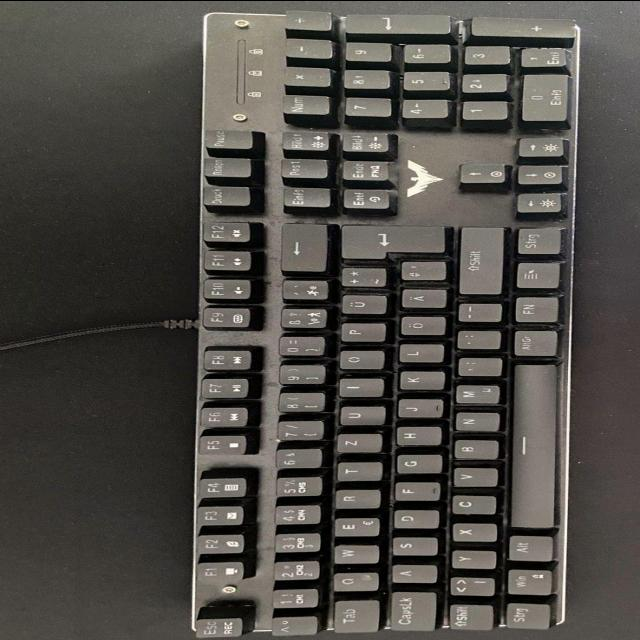0: (273, 336, 323, 358)
1: (266, 589, 316, 610)
2: (268, 561, 318, 582)
3: (268, 533, 318, 554)
4: (269, 504, 319, 525)
5: (271, 476, 321, 498)
6: (271, 448, 321, 469)
7: (272, 420, 322, 442)
8: (274, 393, 324, 414)
9: (274, 365, 324, 387)
a: (386, 565, 436, 585)
accent: (275, 280, 327, 302)
ae: (395, 289, 445, 310)
alt-left: (503, 535, 551, 563)
altgr-right: (509, 330, 556, 358)
b: (449, 440, 497, 461)
c: (447, 495, 495, 515)
caret: (265, 616, 315, 637)
comma: (453, 358, 501, 378)
d: (388, 510, 438, 530)
del: (274, 224, 325, 274)
e: (329, 518, 377, 538)
enter: (335, 226, 445, 260)
f: (389, 482, 437, 502)
g: (391, 455, 441, 475)
h: (392, 427, 440, 447)
hash: (396, 262, 444, 282)
i: (334, 379, 382, 399)
j: (392, 399, 442, 419)
k: (394, 371, 444, 391)
keyboard: (187, 7, 584, 639)
l: (393, 344, 443, 364)
less: (445, 577, 493, 597)
m: (450, 385, 498, 406)
minus: (454, 304, 500, 324)
n: (450, 412, 498, 432)
o: (334, 350, 384, 371)
oe: (396, 317, 444, 337)
p: (335, 323, 385, 343)
plus: (336, 268, 384, 288)
point: (452, 330, 499, 350)
q: (328, 572, 376, 593)
r: (330, 490, 380, 510)
s: (386, 537, 436, 557)
shift-left: (444, 604, 492, 632)
shift-lock: (385, 591, 435, 633)
shift-right: (454, 228, 502, 296)
space: (506, 364, 556, 531)
ss: (275, 308, 326, 330)
strg-left: (500, 603, 548, 631)
strg-right: (513, 228, 560, 256)
t: (332, 462, 380, 482)
tab: (327, 600, 377, 634)
u: (334, 406, 384, 426)
ue: (336, 296, 386, 316)
v: (448, 468, 496, 488)
w: (328, 545, 378, 565)
x: (447, 523, 495, 543)
y: (447, 550, 495, 570)
z: (331, 434, 381, 454)
